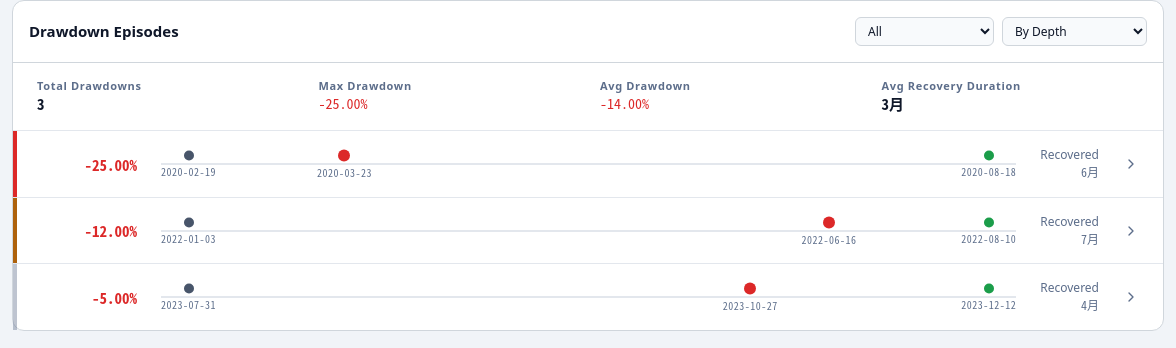
DrawdownEpisodes › 严重度筛选：severe
Select "Severe (≥20%)" in the dropdown with test id "filter-severity": (924, 32) [855,17,994,46]
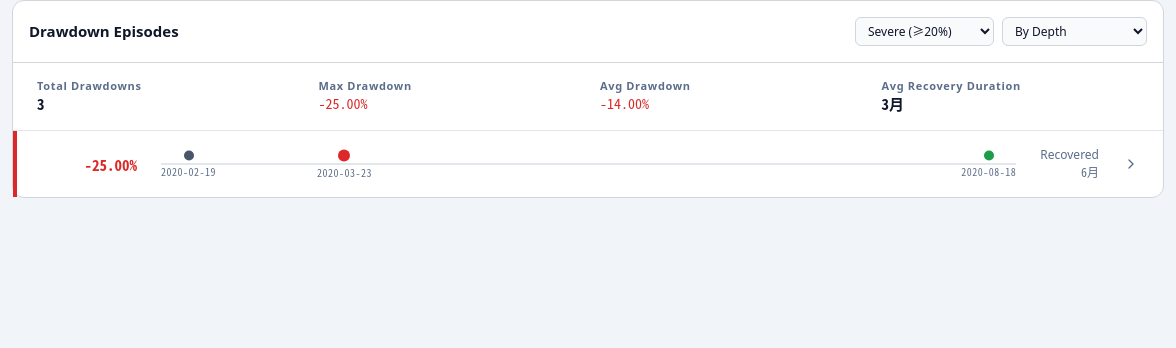
Result: the text "Recovered" is shown once at [1040,147,1099,164]
